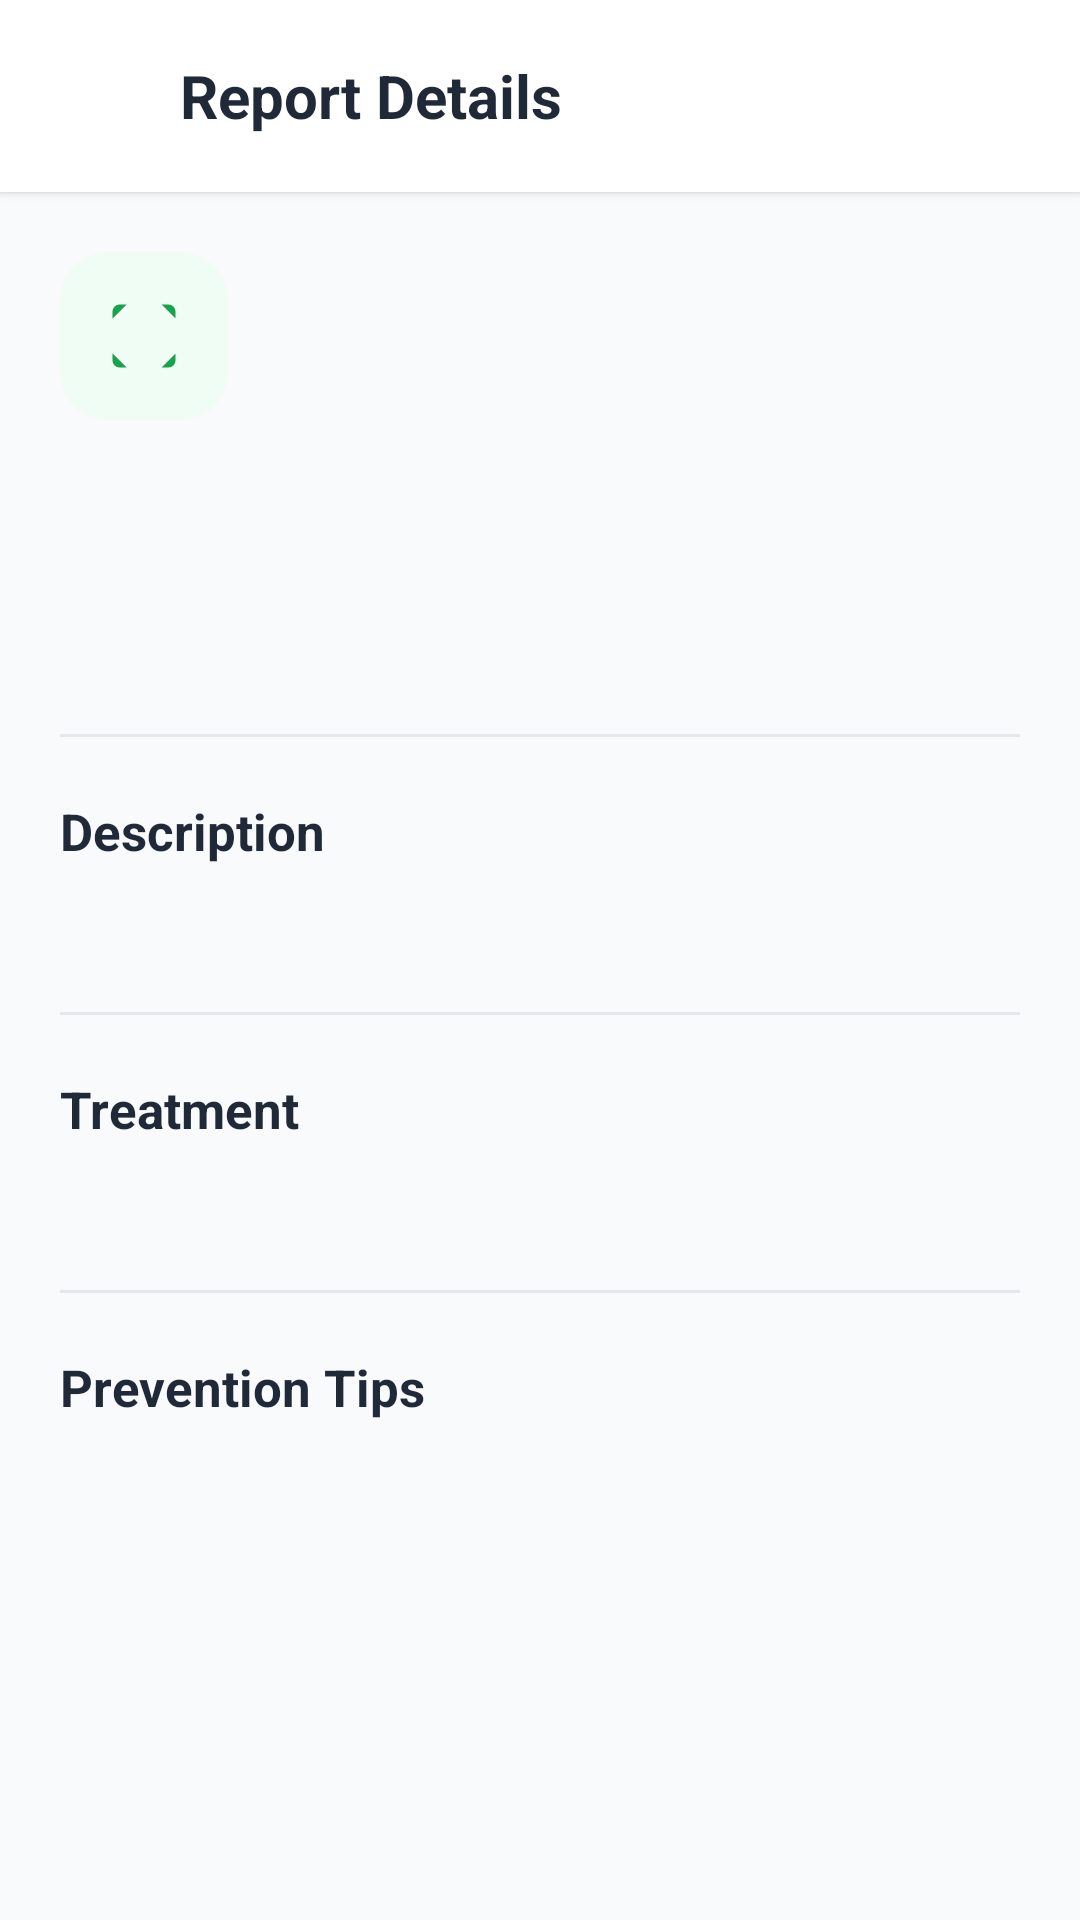

Icons on this 1080w x 1920h Android screen, each with its box as (x1, y1, x2, y2):
scan: (112, 304, 176, 368)
